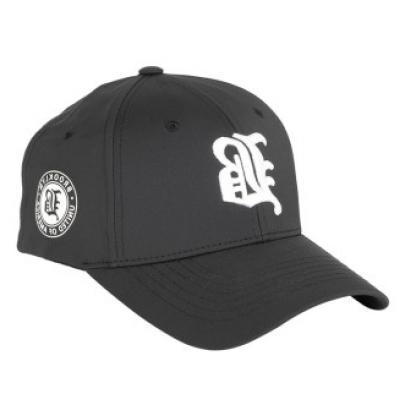cap: (11, 60, 400, 355)
